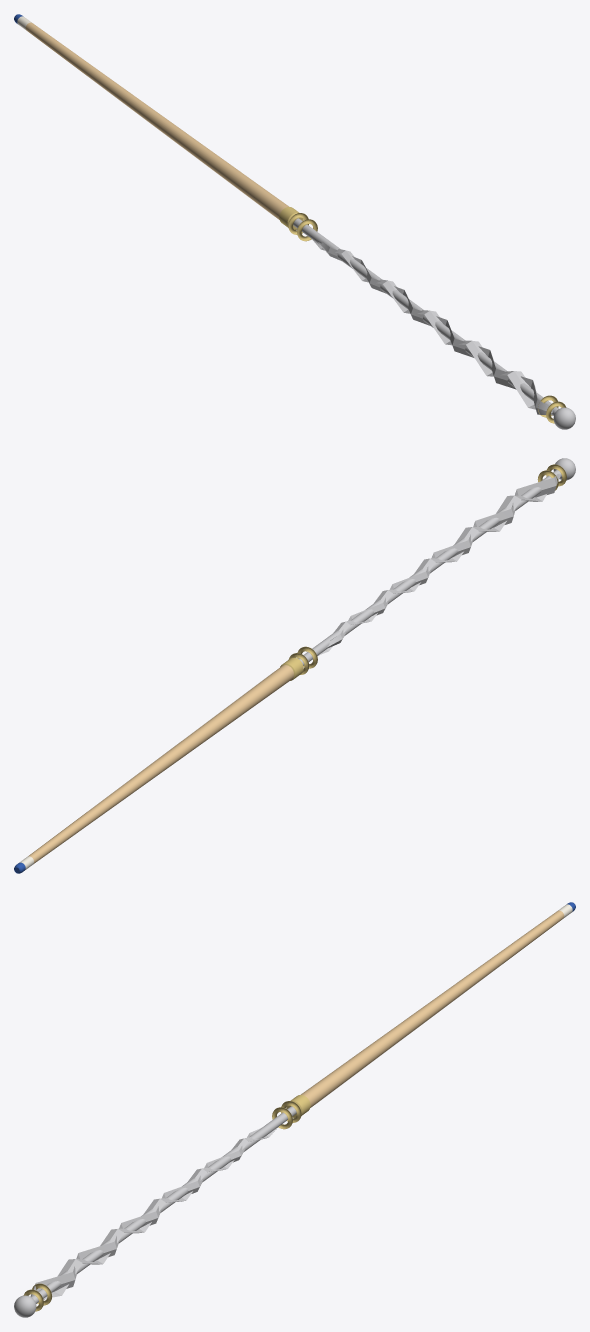
The model's file is cue_lightning.glb.
3 views of the same model, one above another, from view 1: azimuth 30°, elevation 25°; view 2: azimuth 150°, elevation 25°; view 3: azimuth 330°, elevation 25° (orthographic).
Parts seen in each view (by area): view 1: shaft, bolt, core, metal; view 2: shaft, bolt, core, metal; view 3: shaft, bolt, core, metal.
Boxes of the visible parts, bbox=[...] form: shaft: bbox=[25, 22, 288, 219]; bolt: bbox=[313, 240, 552, 415]; core: bbox=[293, 218, 558, 415]; metal: bbox=[279, 207, 566, 423]; shaft: bbox=[28, 665, 293, 864]; bolt: bbox=[318, 474, 560, 655]; core: bbox=[298, 469, 561, 665]; metal: bbox=[280, 464, 566, 680]; shaft: bbox=[301, 910, 564, 1107]; bolt: bbox=[30, 1127, 277, 1299]; core: bbox=[31, 1106, 296, 1303]; metal: bbox=[23, 1095, 310, 1311].
Bounding box in the file's own units: 0.0322 × 0.0323 × 1.48.
